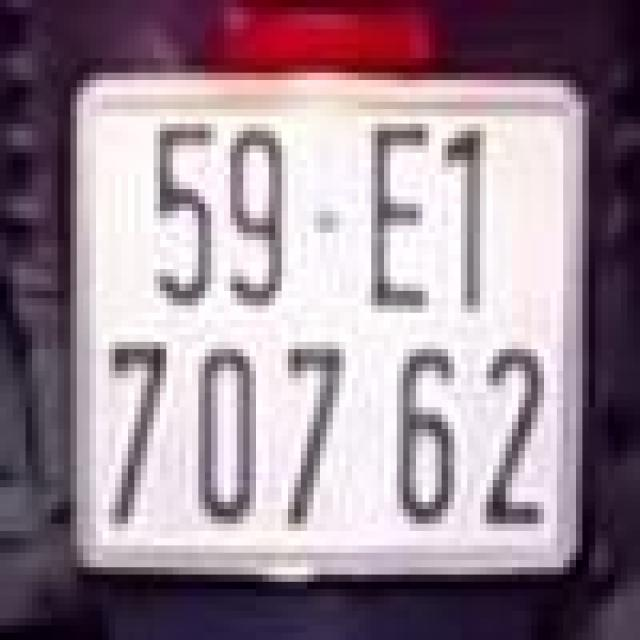0: (185, 334, 268, 546)
1: (442, 113, 492, 338)
2: (480, 346, 557, 556)
5: (144, 87, 214, 320)
6: (381, 331, 464, 542)
7: (266, 324, 348, 549), (96, 320, 173, 545)
9: (220, 95, 298, 327)
E: (352, 102, 442, 327)
